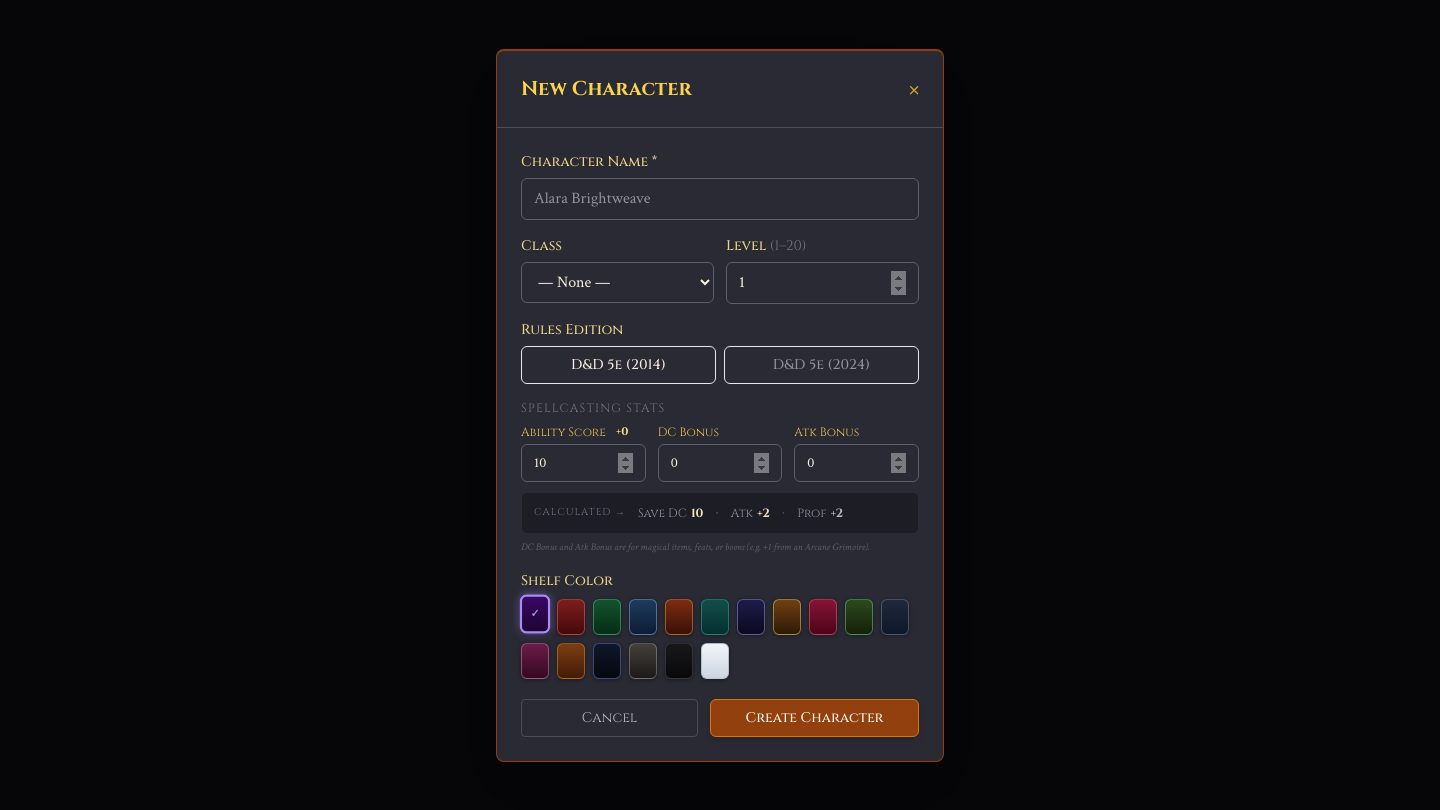
Test: CreateCharacterModal — create mode › shows the Subclass dropdown only when Wizard is selected
The image size is (1440, 810).
Expected: the dropdown labelled "subclass" is not shown
Select "Wizard" in the dropdown labelled "Class" at (618, 282), box [521,262,714,302]
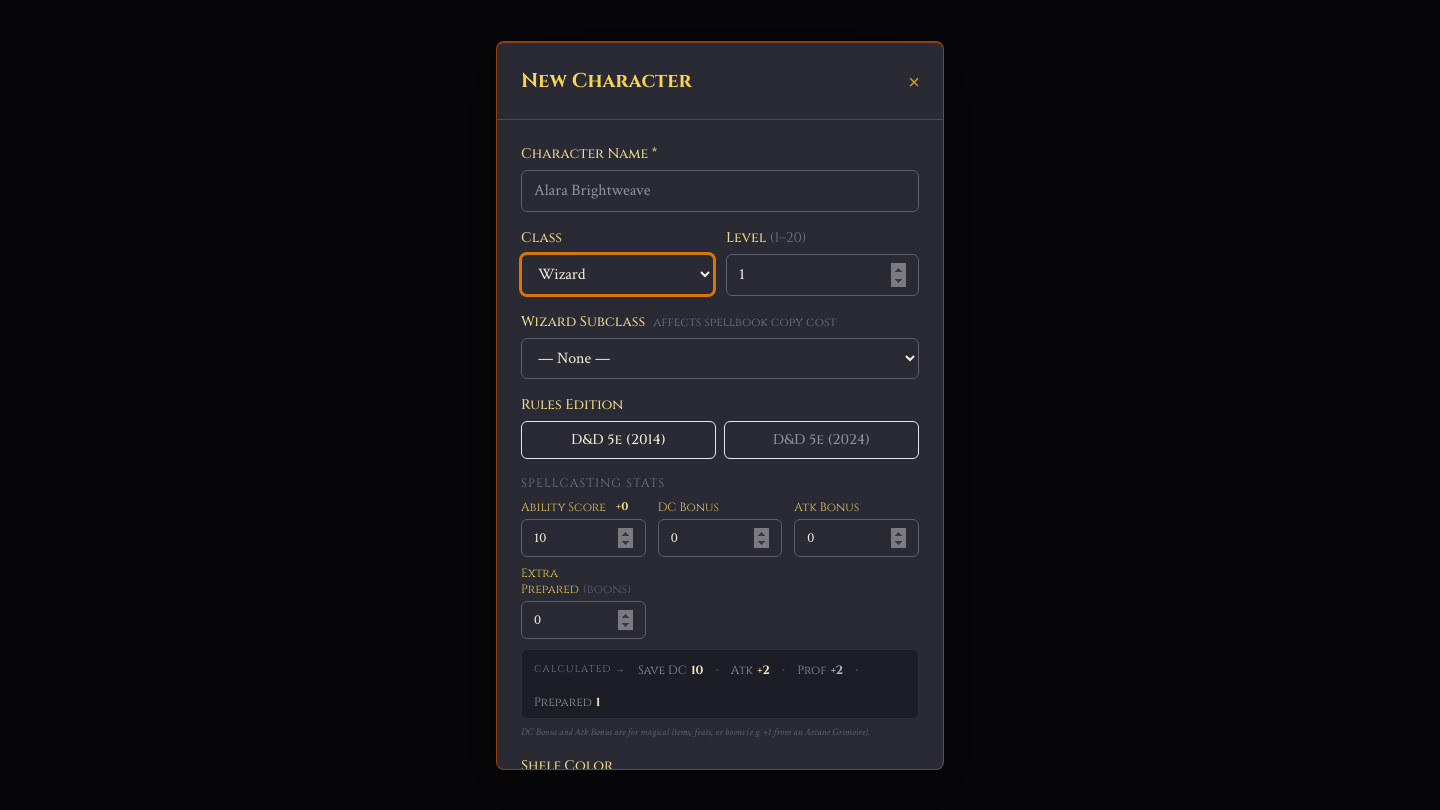
Now the dropdown labelled "Subclass" is shown, box [521,338,919,378]
